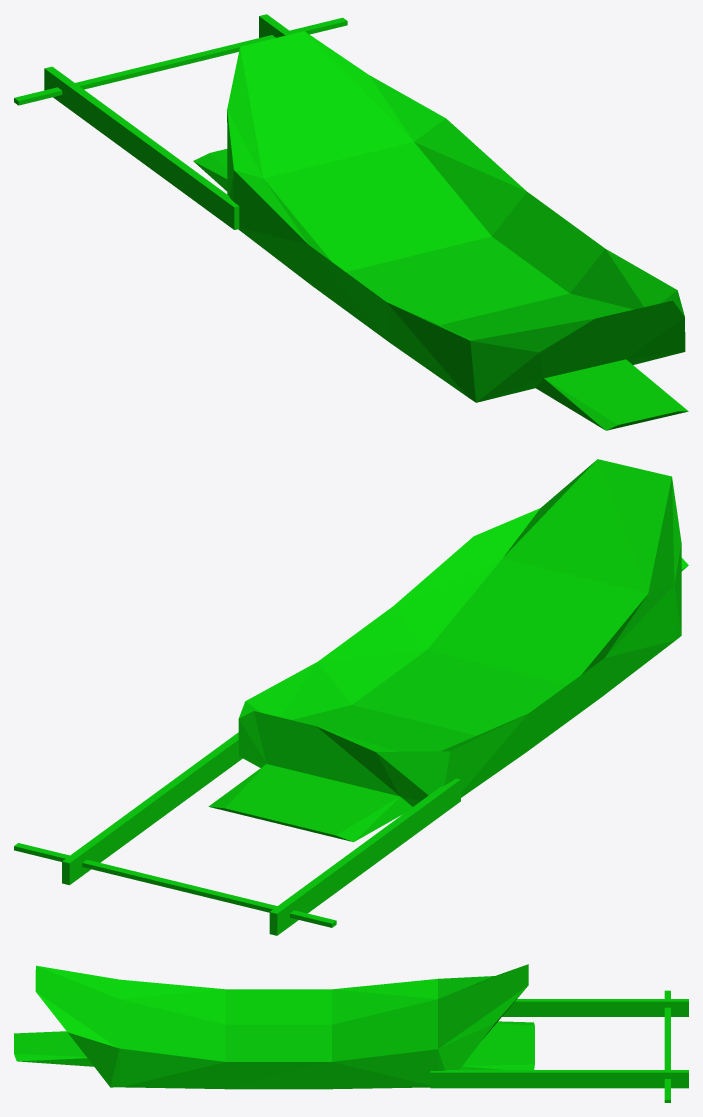
File: body.obj
The picture shows the model from 3 angles, top to bottom: view 1: azimuth 30°, elevation 25°; view 2: azimuth 150°, elevation 25°; view 3: azimuth 270°, elevation 25°; orthographic projection. The views are drawn at different scales.
Parts seen in each view (by area): view 1: ScrewBone2; view 2: ScrewBone2; view 3: ScrewBone2.
Part boxes in pixels (<box>): ScrewBone2: <box>14,14,688,430</box>; ScrewBone2: <box>14,459,688,935</box>; ScrewBone2: <box>14,964,688,1102</box>.
Size of the model in its own units: 2 by 0.6796 by 5.22.
Materials: 3 (3 with a texture image).
